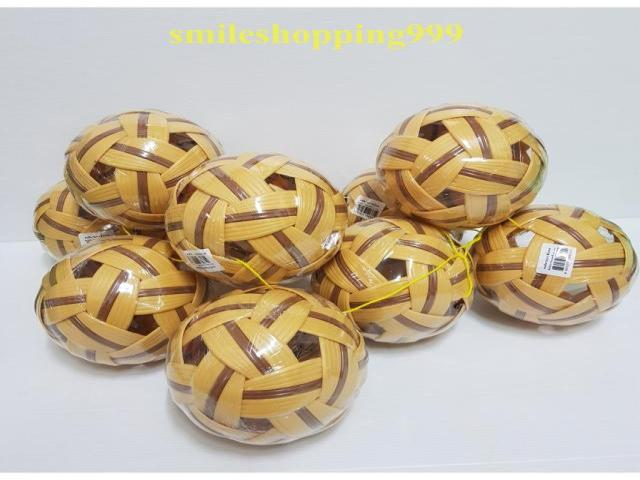round ball: (166, 286, 368, 445), (165, 153, 348, 286), (35, 235, 206, 365), (376, 103, 546, 227), (314, 217, 475, 343), (475, 204, 638, 325), (65, 110, 222, 229)
